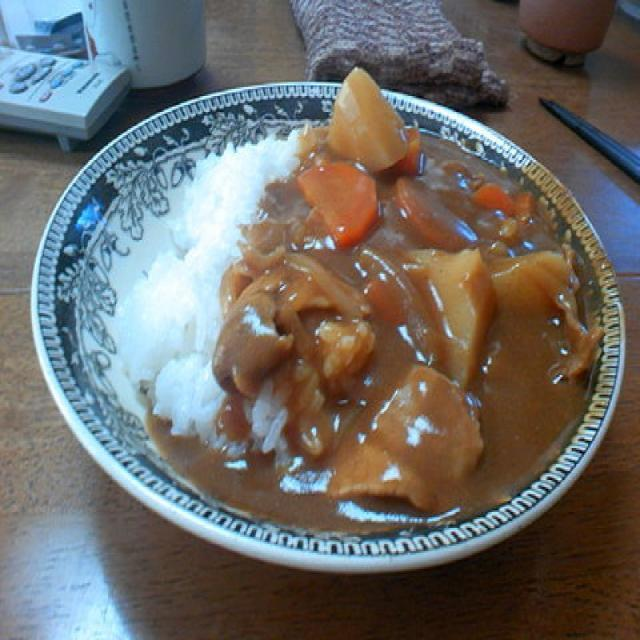Beef Curry: (240, 120, 598, 517)
